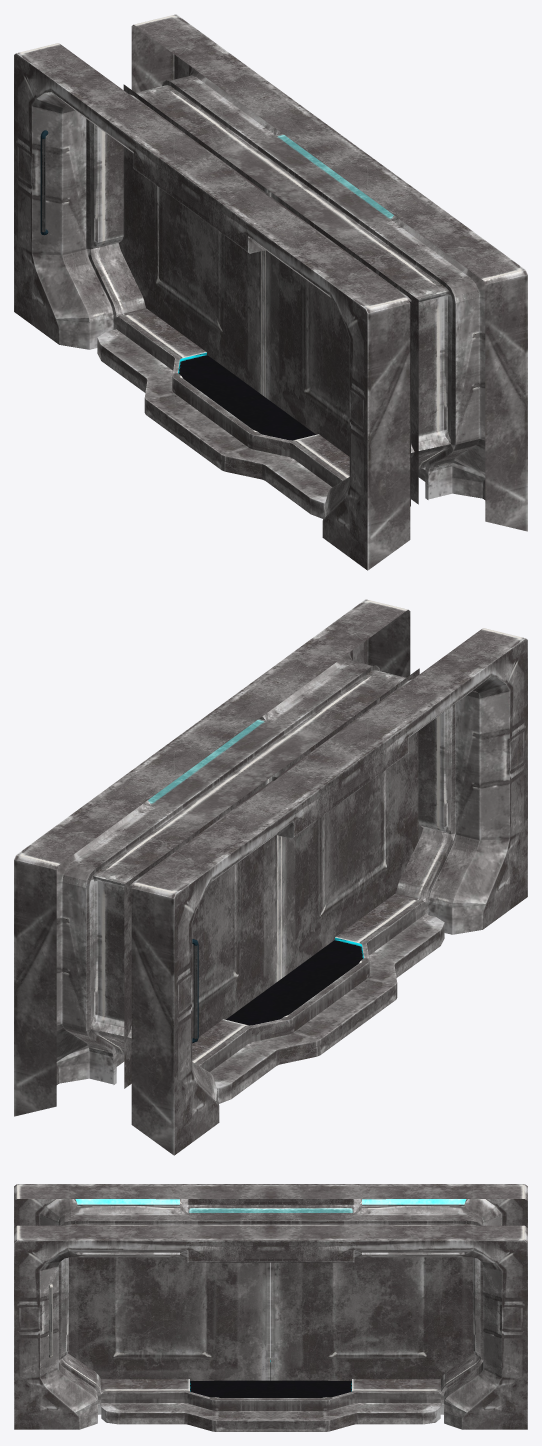
The model's file is scifi_door.glb.
The picture shows the model from 3 angles, top to bottom: view 1: azimuth 30°, elevation 25°; view 2: azimuth 150°, elevation 25°; view 3: azimuth 270°, elevation 25°; orthographic projection. The views are drawn at different scales.
Parts seen in each view (by area): view 1: space_low, door_left_low, door_right_low, grip_back_low; view 2: space_low, door_right_low, door_left_low; view 3: space_low, door_left_low, door_right_low.
Boxes of the visible parts, bbox=[...] form: space_low: bbox=[14, 14, 527, 570]; door_left_low: bbox=[119, 84, 270, 395]; door_right_low: bbox=[263, 192, 418, 506]; grip_back_low: bbox=[40, 130, 48, 235]; space_low: bbox=[14, 599, 527, 1155]; door_right_low: bbox=[272, 668, 422, 979]; door_left_low: bbox=[124, 776, 279, 1088]; space_low: bbox=[14, 1184, 527, 1431]; door_left_low: bbox=[270, 1257, 473, 1380]; door_right_low: bbox=[68, 1257, 269, 1380].
Size of the model in its own units: 0.5693 by 0.8112 by 2.
Materials: 1 (1 with a texture image).
